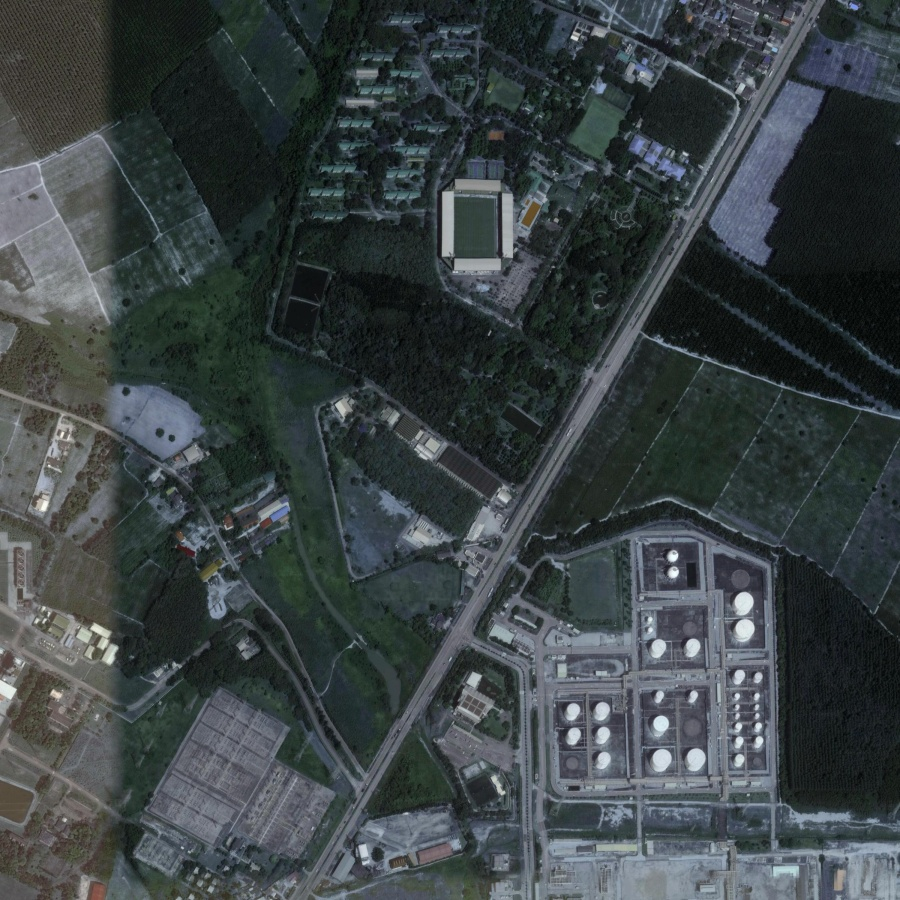PowerPlant: (501, 527, 779, 810)
